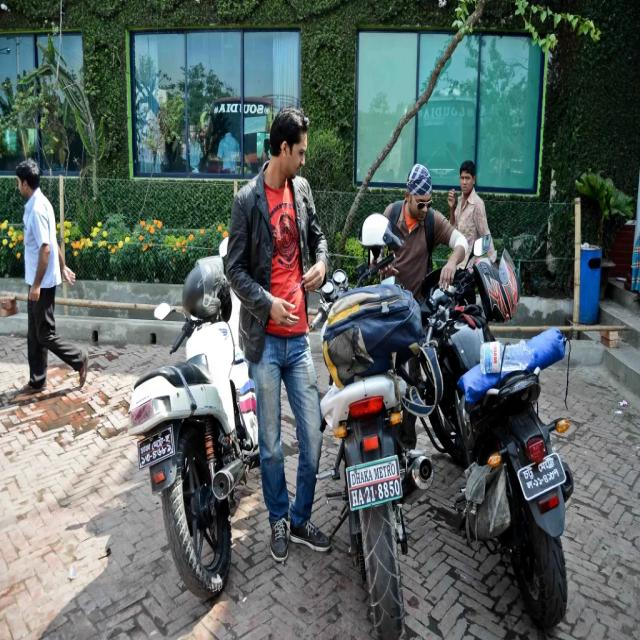bike: (426, 253, 593, 609), (130, 258, 250, 606), (317, 264, 425, 637)
